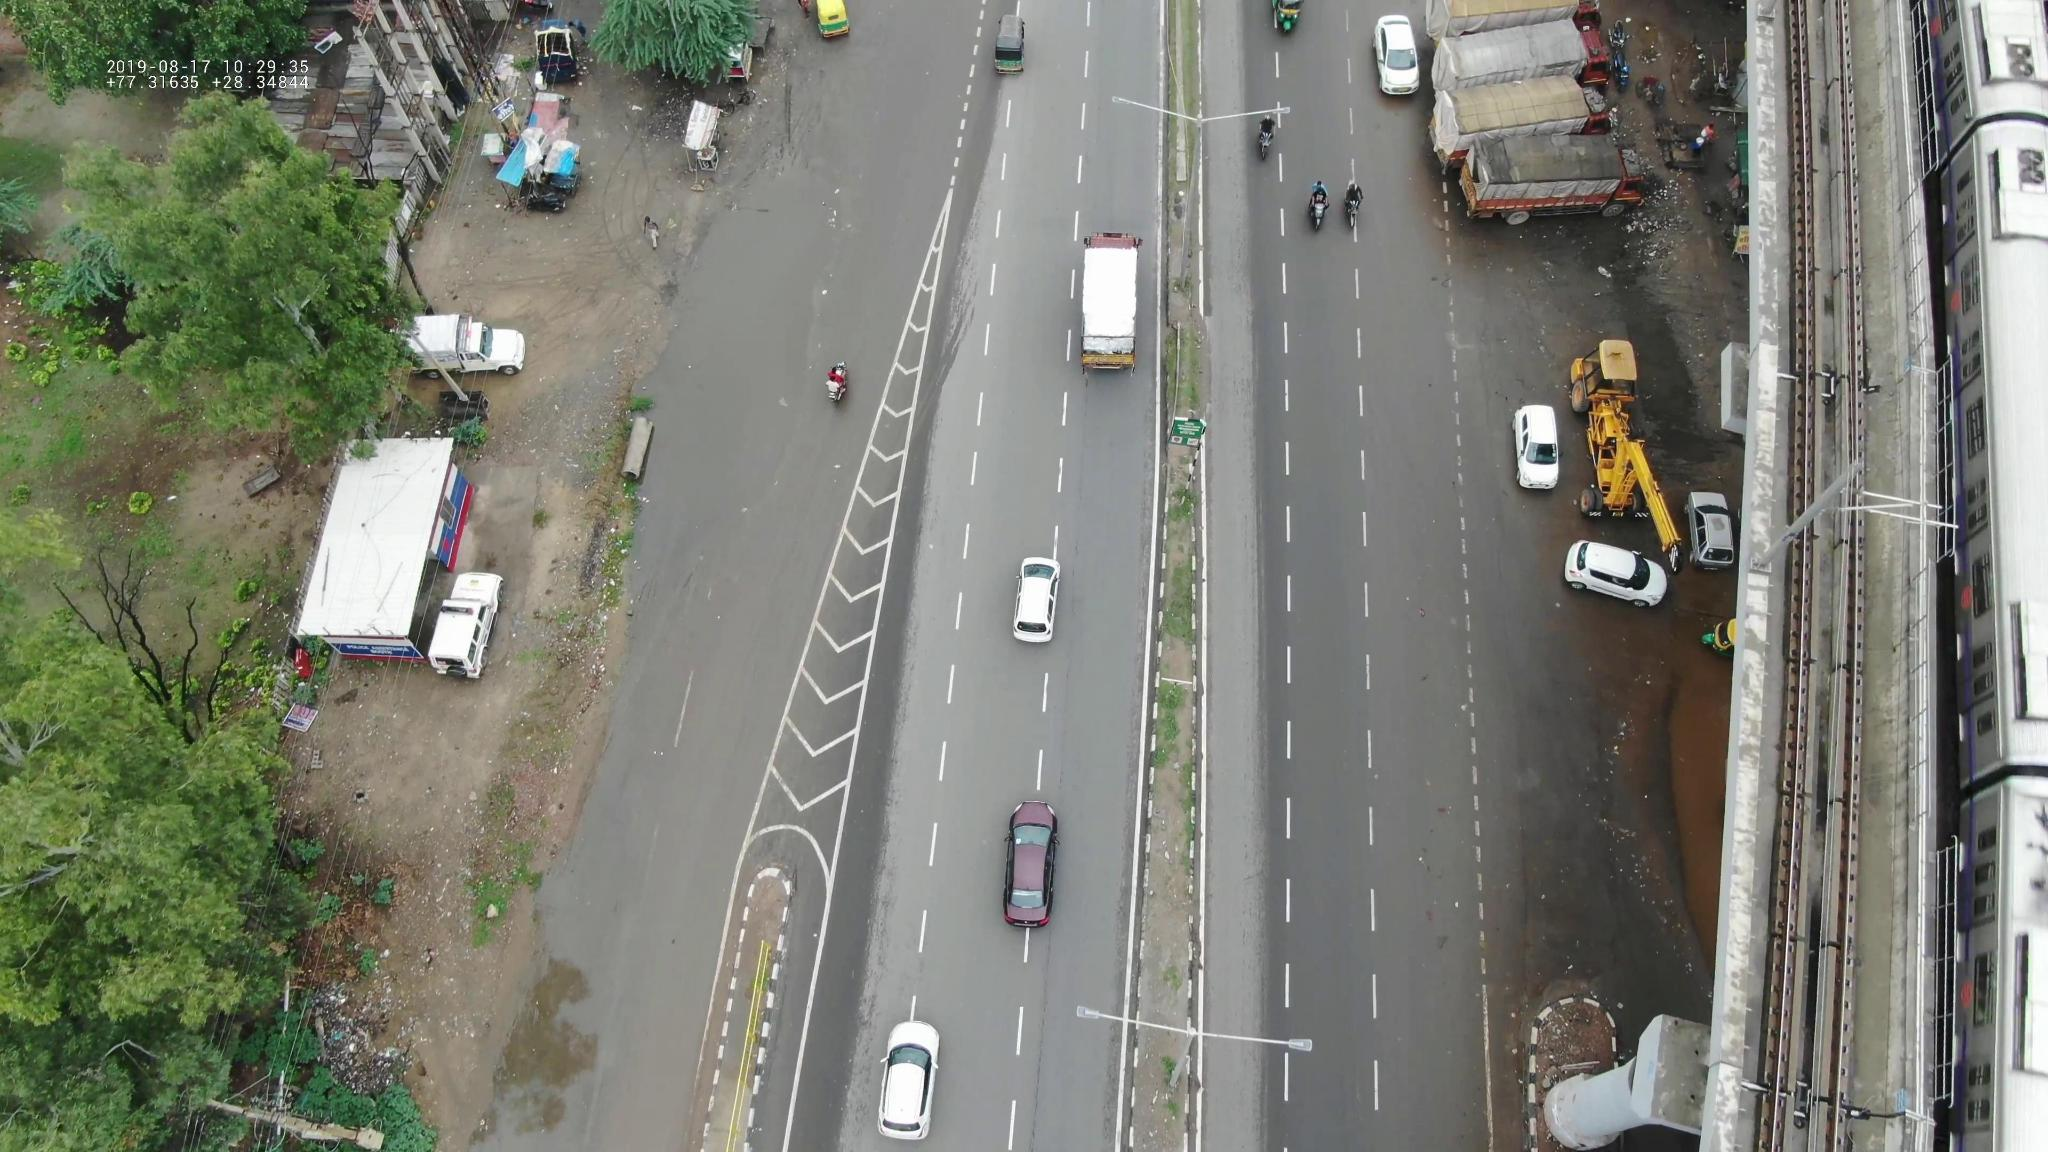Waterlogging: (612, 151, 828, 584), (482, 947, 596, 1118), (1619, 250, 1713, 429), (1670, 677, 1717, 921)
